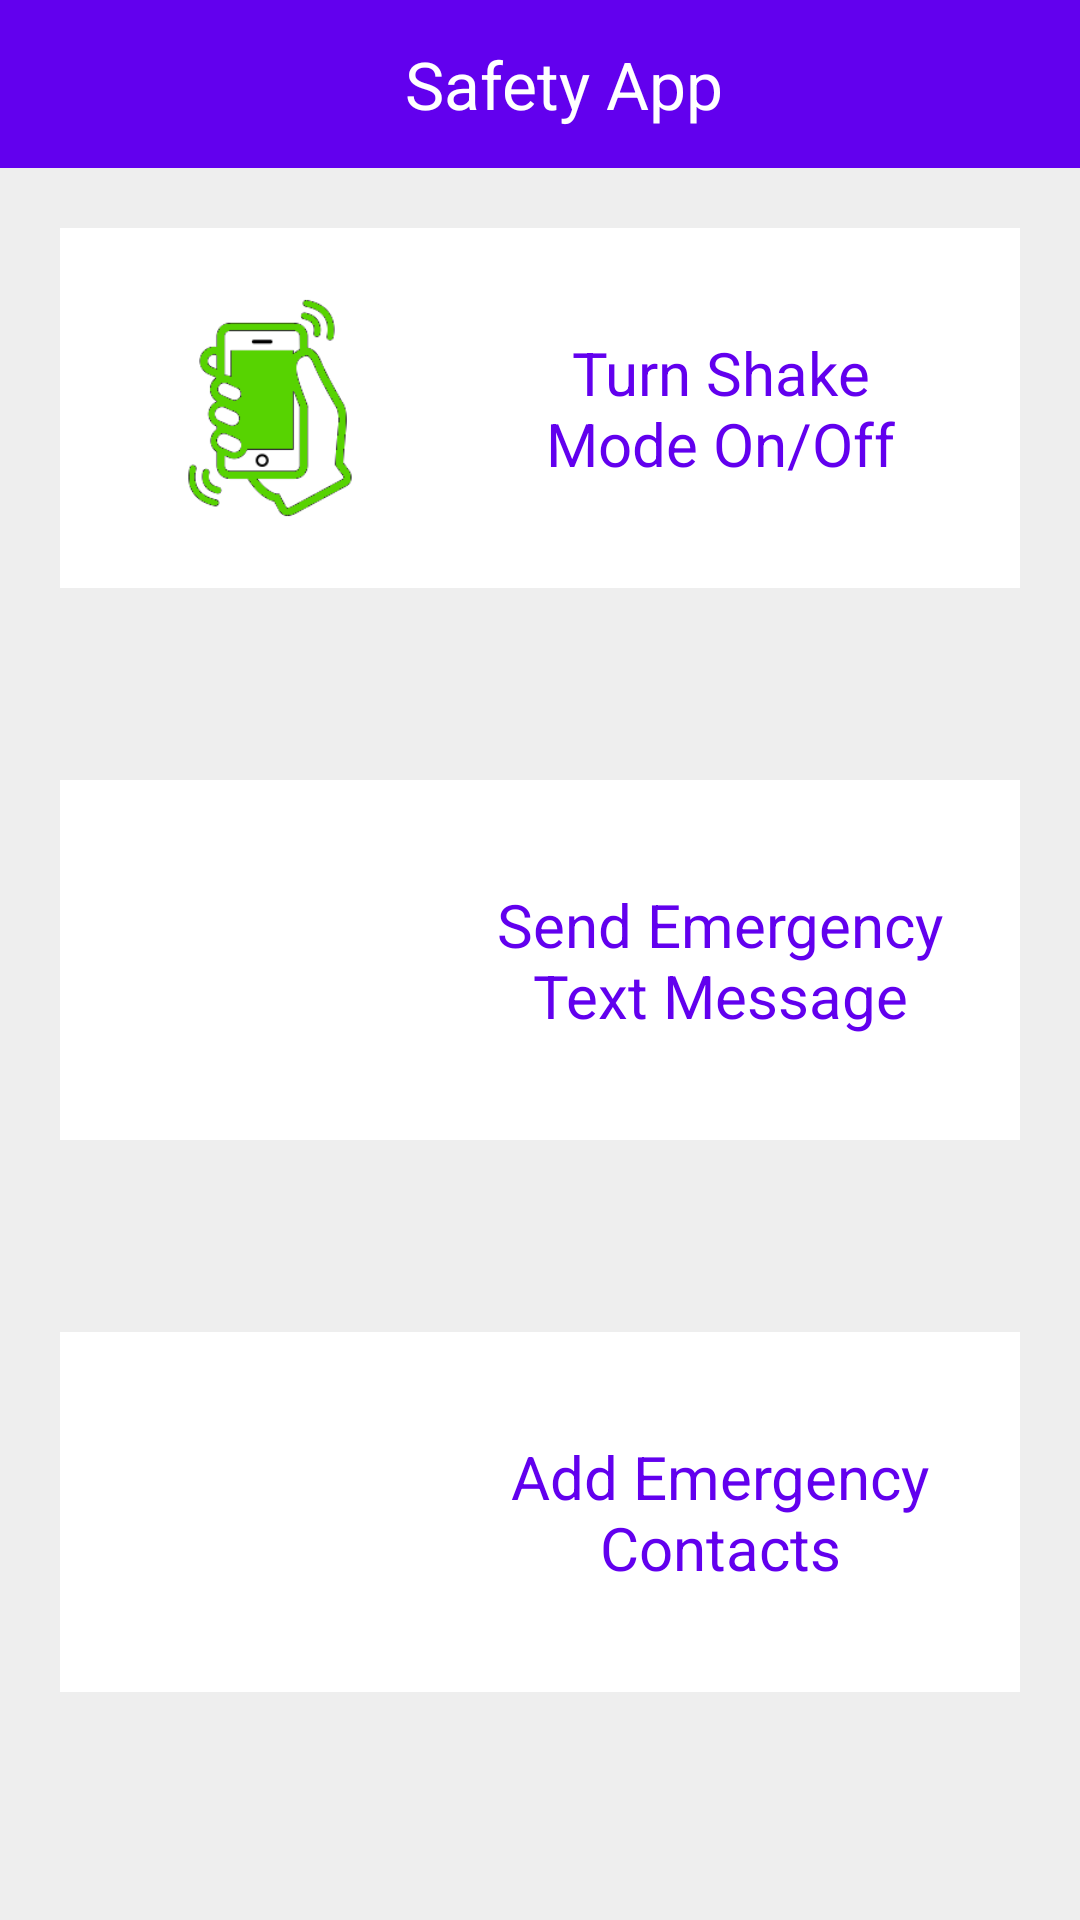

Screen size 1080 x 1920. Icon name, then its center in pixels as (x=x, y=y):
shakeg: (x=270, y=408)
